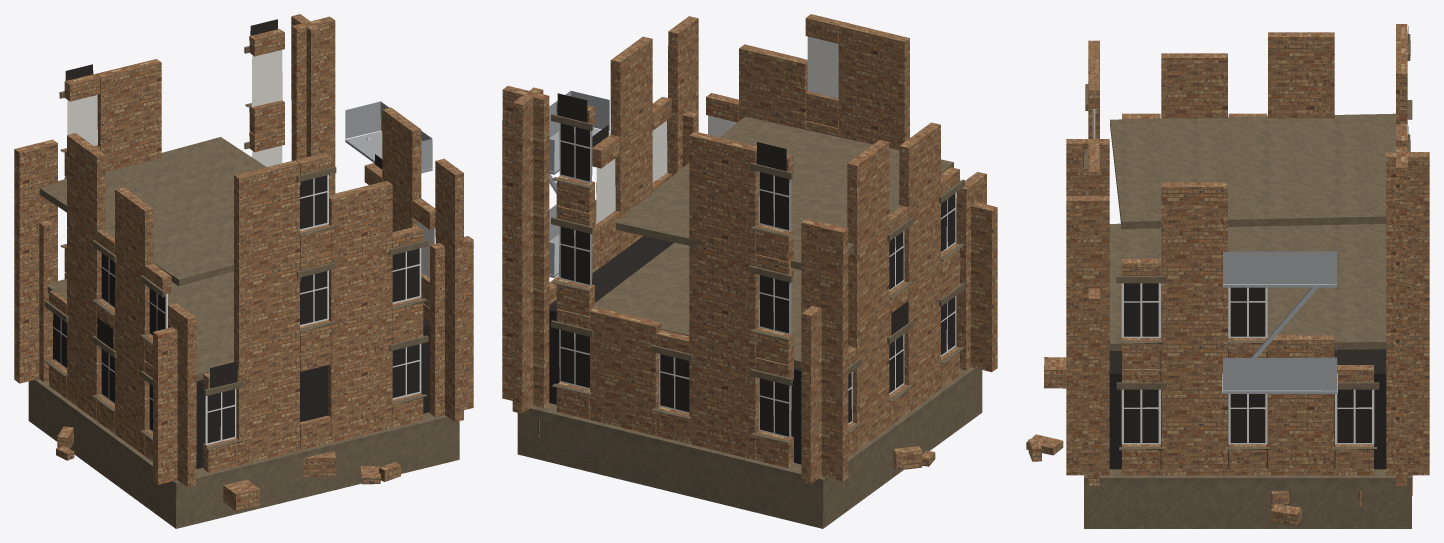
The model's file is brick-block-ruined-lod1.glb.
3 renders of one model, left to right at view 1: azimuth 30°, elevation 25°; view 2: azimuth 150°, elevation 25°; view 3: azimuth 270°, elevation 25°, orthographic. The views are drawn at different scales.
Visible parts, largest first — view 1: brick-block-ruined.001; view 2: brick-block-ruined.001; view 3: brick-block-ruined.001.
Boxes of the visible parts, x1,y1,x2,y2 form: brick-block-ruined.001: (14,14,473,528); brick-block-ruined.001: (502,14,997,528); brick-block-ruined.001: (1026,24,1429,528).
Size of the model in its own units: 12.82 by 11.81 by 11.35.
6 materials, 2 textured.
